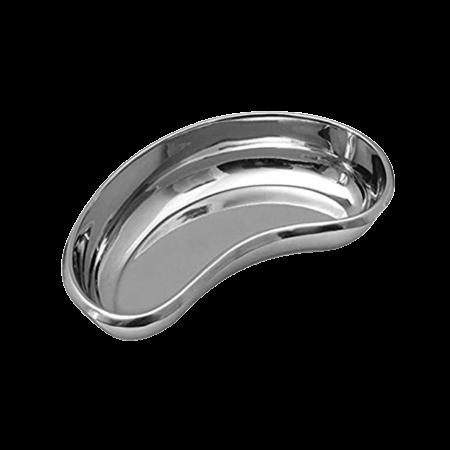Kidney Tray: (54, 105, 398, 342)
